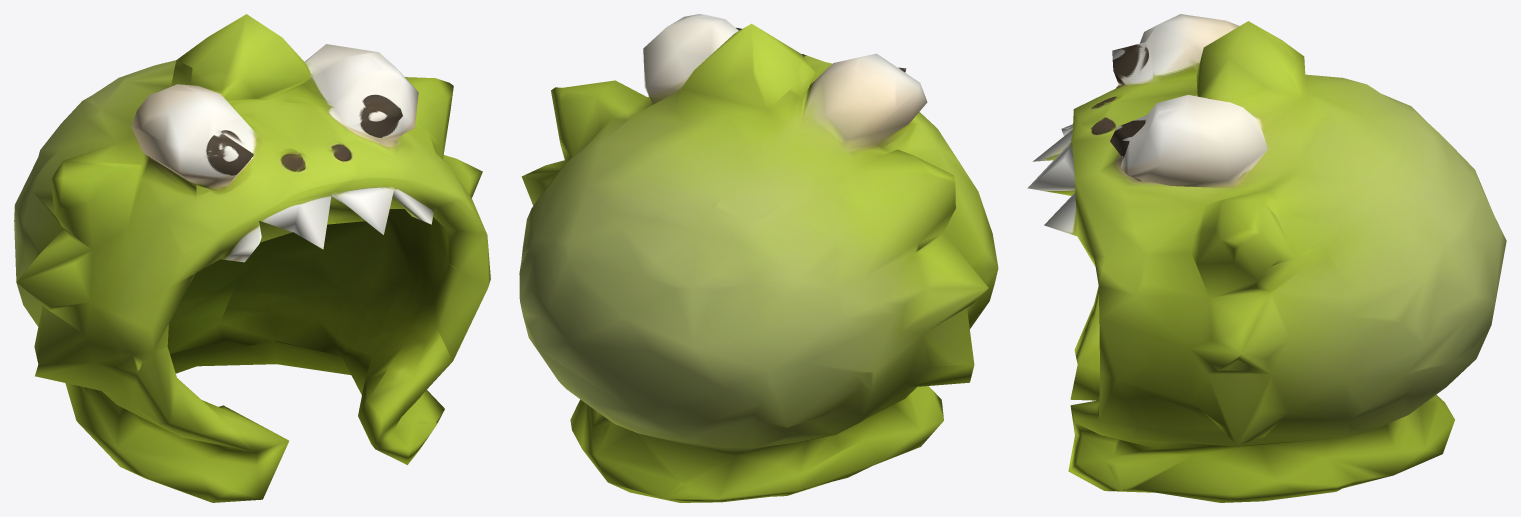
Rendered from dinosaur-head.glb.
3 views of the same model, side by side, from view 1: azimuth 30°, elevation 25°; view 2: azimuth 150°, elevation 25°; view 3: azimuth 270°, elevation 25° (orthographic). The views are drawn at different scales.
Parts seen in each view (by area): view 1: tripo_node_66947d7e; view 2: tripo_node_66947d7e; view 3: tripo_node_66947d7e.
Part boxes in pixels (x1,y1,x2,y2): tripo_node_66947d7e: (14,14,490,502); tripo_node_66947d7e: (519,14,998,502); tripo_node_66947d7e: (1027,14,1506,502).
Bounding box in the file's own units: 0.726 × 0.609 × 0.632.
Materials: 1 (1 with a texture image).
